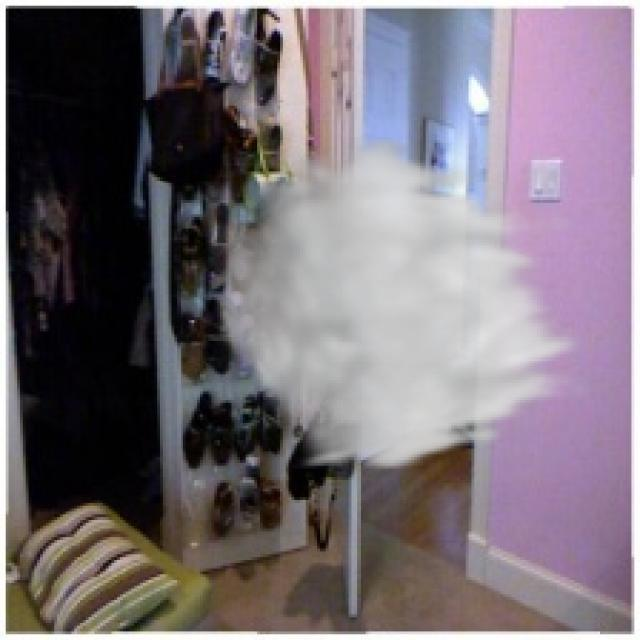Smoke: (208, 132, 594, 474)
